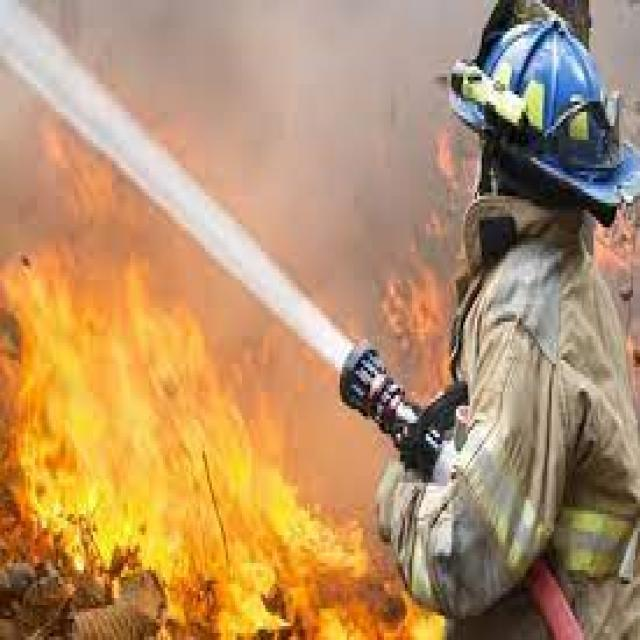Fire: (22, 315, 278, 574)
Smoke: (170, 7, 418, 178)
